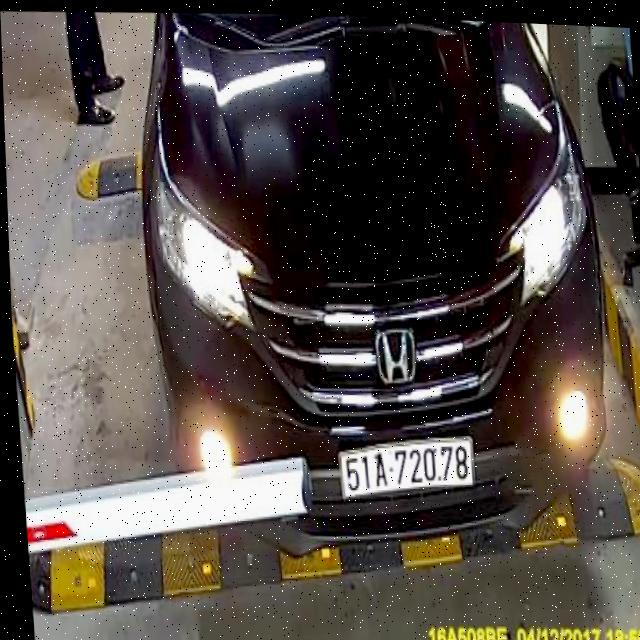car: (122, 5, 632, 577)
plate: (329, 433, 487, 508)
